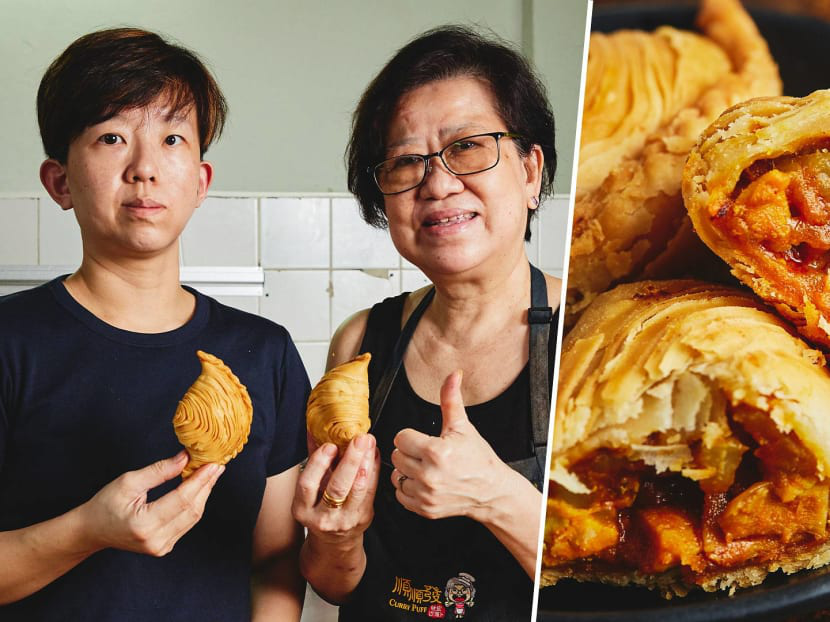Curry Puff: (165, 344, 254, 474), (295, 346, 385, 455)
